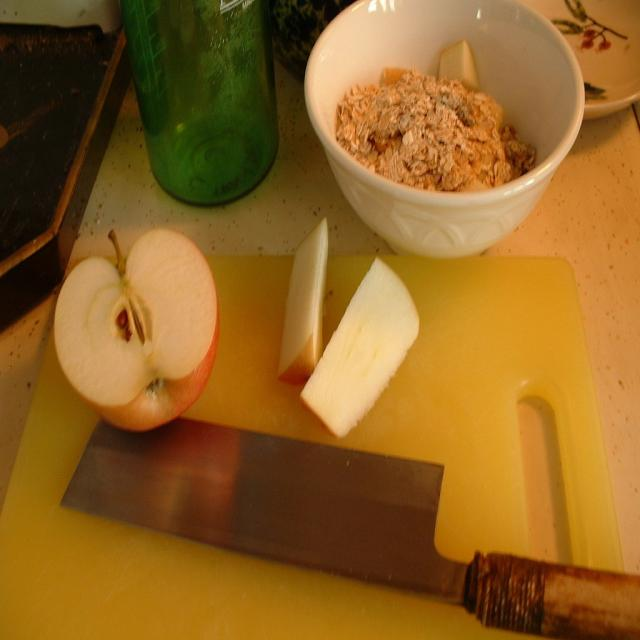Healty Apple: (50, 228, 220, 430), (296, 255, 420, 440), (276, 217, 331, 386), (438, 37, 478, 88)
